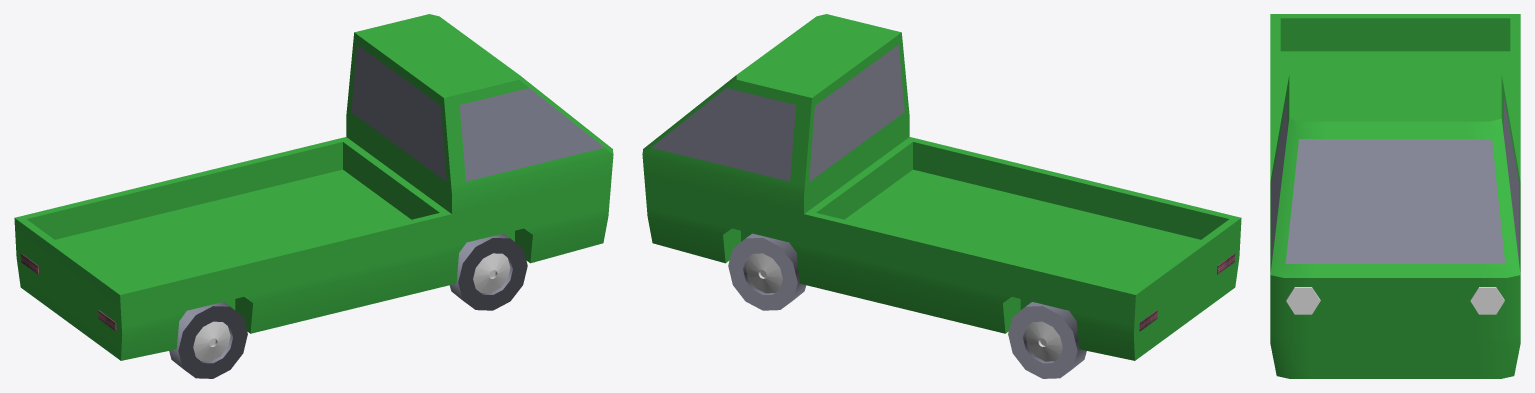
File: PickUpGreen.gltf
3 renders of one model, left to right at view 1: azimuth 30°, elevation 25°; view 2: azimuth 150°, elevation 25°; view 3: azimuth 270°, elevation 25°, orthographic. The views are drawn at different scales.
Parts seen in each view (by area): view 1: Main body, Windows/Wheels, Wheels, Disk; view 2: Main body, Windows/Wheels, Wheels, Disk; view 3: Main body, Windows/Wheels, Front lights.
Boxes of the visible parts, bbox=[...] form: Main body: bbox=[14, 14, 613, 360]; Windows/Wheels: bbox=[351, 44, 604, 181]; Wheels: bbox=[169, 233, 527, 378]; Disk: bbox=[193, 253, 510, 361]; Main body: bbox=[642, 14, 1241, 360]; Windows/Wheels: bbox=[651, 44, 904, 181]; Wheels: bbox=[728, 233, 1086, 378]; Disk: bbox=[745, 253, 1062, 361]; Main body: bbox=[1270, 14, 1520, 378]; Windows/Wheels: bbox=[1272, 97, 1518, 263]; Front lights: bbox=[1286, 287, 1504, 314].
Size of the model in its own units: 0.0492 by 0.0207 by 0.018.
Materials: 6 (1 with a texture image).
